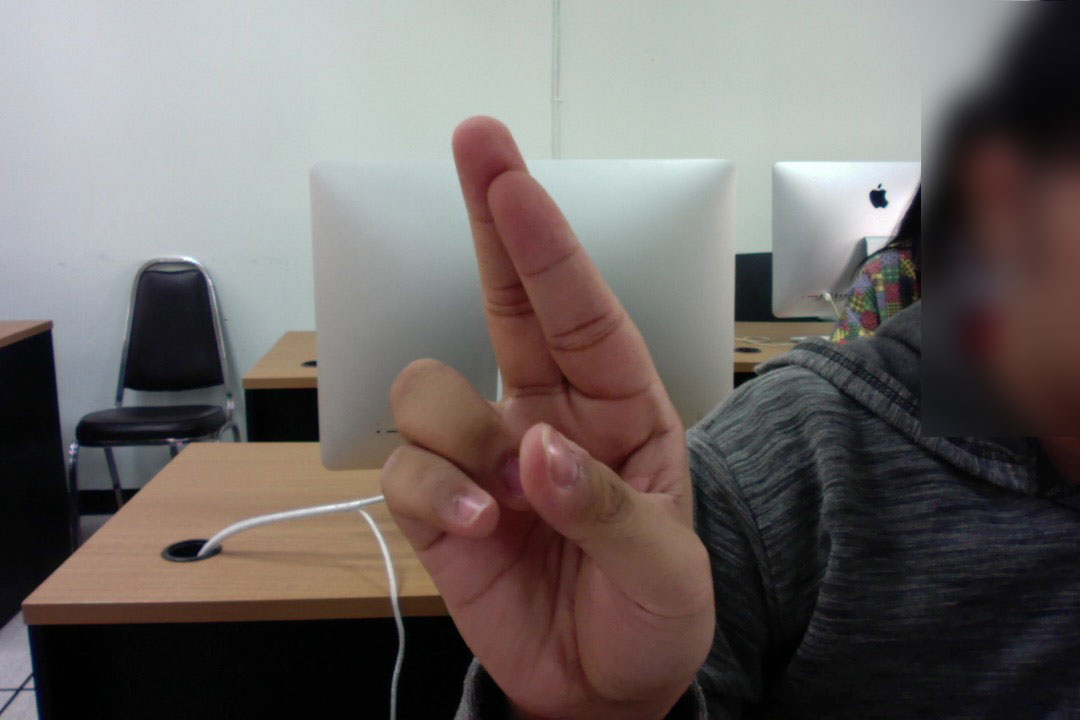rao: (356, 107, 727, 718)
